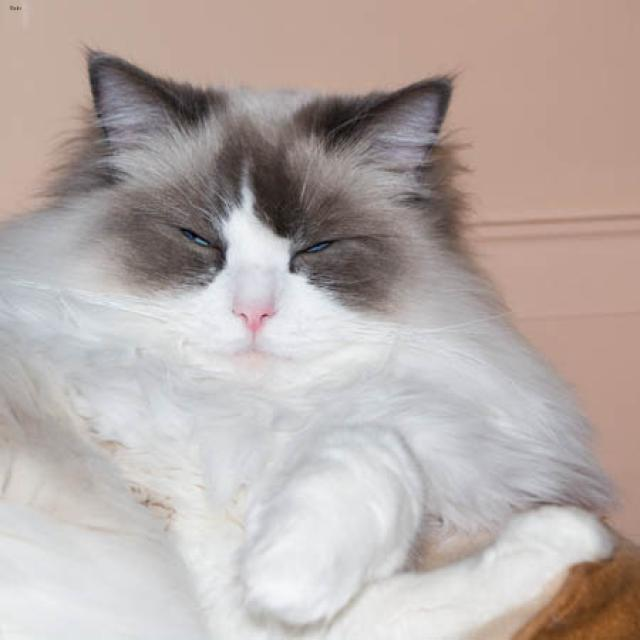cat: (87, 48, 451, 380)
